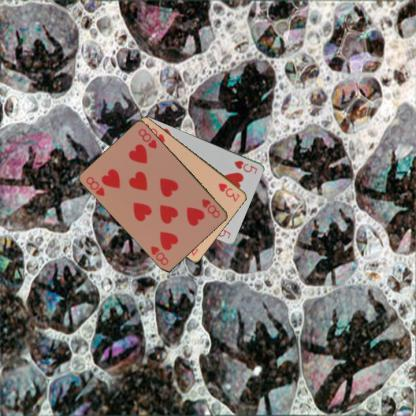3h: (216, 180, 241, 202)
5h: (232, 158, 259, 176)
8h: (82, 174, 106, 198), (200, 196, 222, 219)
